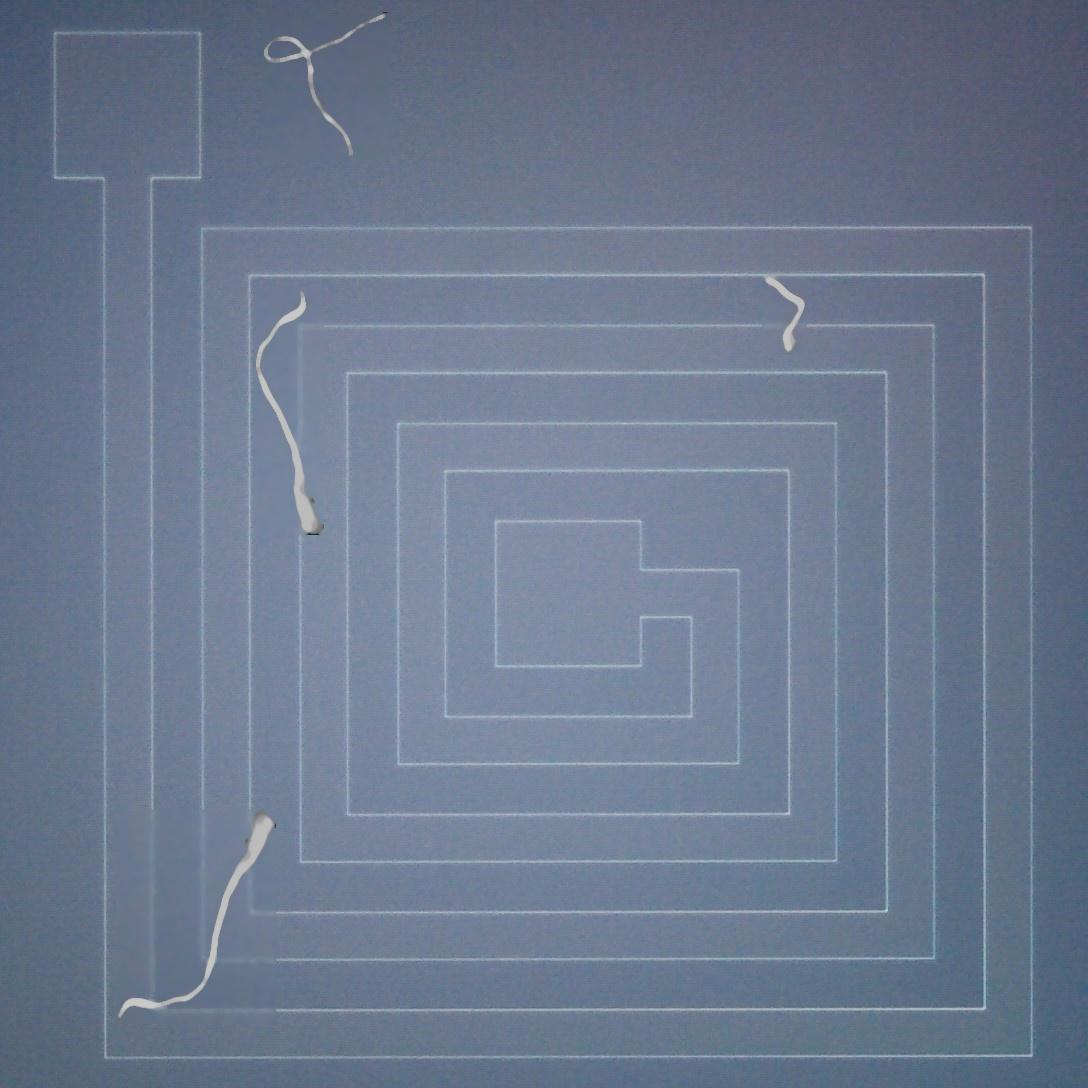foreign: (113, 806, 284, 1031), (260, 4, 397, 162), (249, 284, 330, 540), (757, 271, 812, 358)
